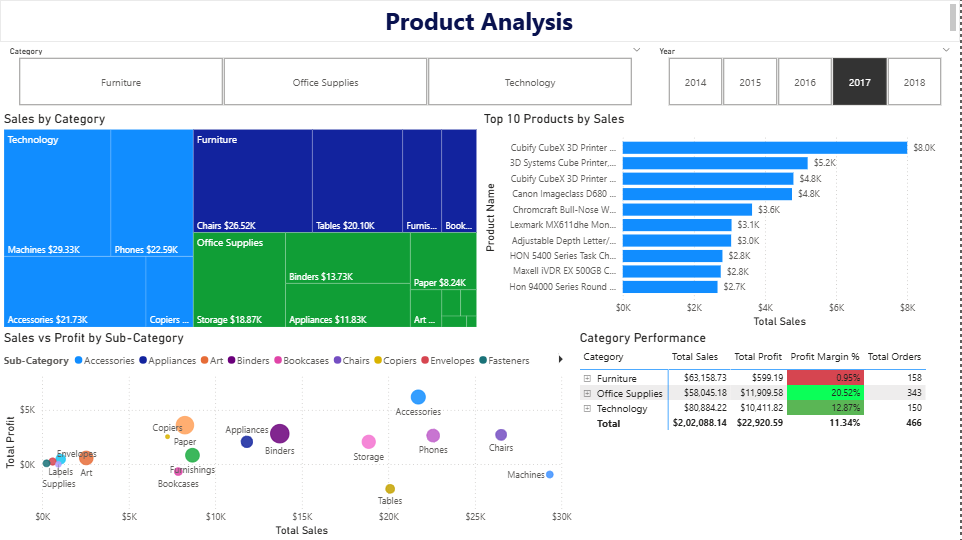

The dashboard page shown, as its layout file describes it:
{"tool":"powerbi","page":{"name":"Product Analysis","canvas":[1280,720],"ordinal":1},"visuals":[{"type":"textbox","box":[0,0,1279.4,56.7],"z":0},{"type":"treemap","title":"Sales by Category","fields":{"Group":["Sample - Superstore.Category"],"Details":["Sample - Superstore.Sub-Category"],"Values":["_Measures.Total Sales"]},"box":[0,147.4,640.6,292.9],"z":1000},{"type":"clusteredBarChart","title":"Top 10 Products by Sales","fields":{"Category":["Sample - Superstore.Product Name"],"Y":["_Measures.Total Sales"]},"box":[640.6,147.4,623.6,292.9],"z":2000},{"type":"scatterChart","title":"Sales vs Profit by Sub-Category","fields":{"X":["_Measures.Total Sales"],"Y":["_Measures.Total Profit"],"Size":["Sum(Sample - Superstore.Quantity)"],"Series":["Sample - Superstore.Sub-Category"]},"box":[0,440.3,767.2,279.7],"z":3000},{"type":"pivotTable","title":"Category Performance","fields":{"Rows":["Sample - Superstore.Category","Sample - Superstore.Sub-Category"],"Values":["_Measures.Total Sales","_Measures.Total Profit","_Measures.Profit Margin %","_Measures.Total Orders"]},"box":[767.2,440.3,512.1,279.7],"z":4000},{"type":"slicer","fields":{"Values":["Sample - Superstore.Category"]},"box":[0,56.7,866.3,90.7],"z":5000},{"type":"slicer","fields":{"Values":["Date Table.Year"]},"box":[866.3,56.7,412.9,90.7],"z":6000}]}

Visuals, with their boxes in screenshot pixels (x1, y1, x2, y2), scaled from the page's 1280x720 canvas onto the 962x540 screenshot:
textbox: 0,0,961,43
"Sales by Category" treemap: 0,111,481,330
"Top 10 Products by Sales" clusteredBarChart: 481,111,950,330
"Sales vs Profit by Sub-Category" scatterChart: 0,330,577,539
"Category Performance" pivotTable: 577,330,961,539
slicer - Sample - Superstore.Category: 0,43,651,111
slicer - Date Table.Year: 651,43,961,111
